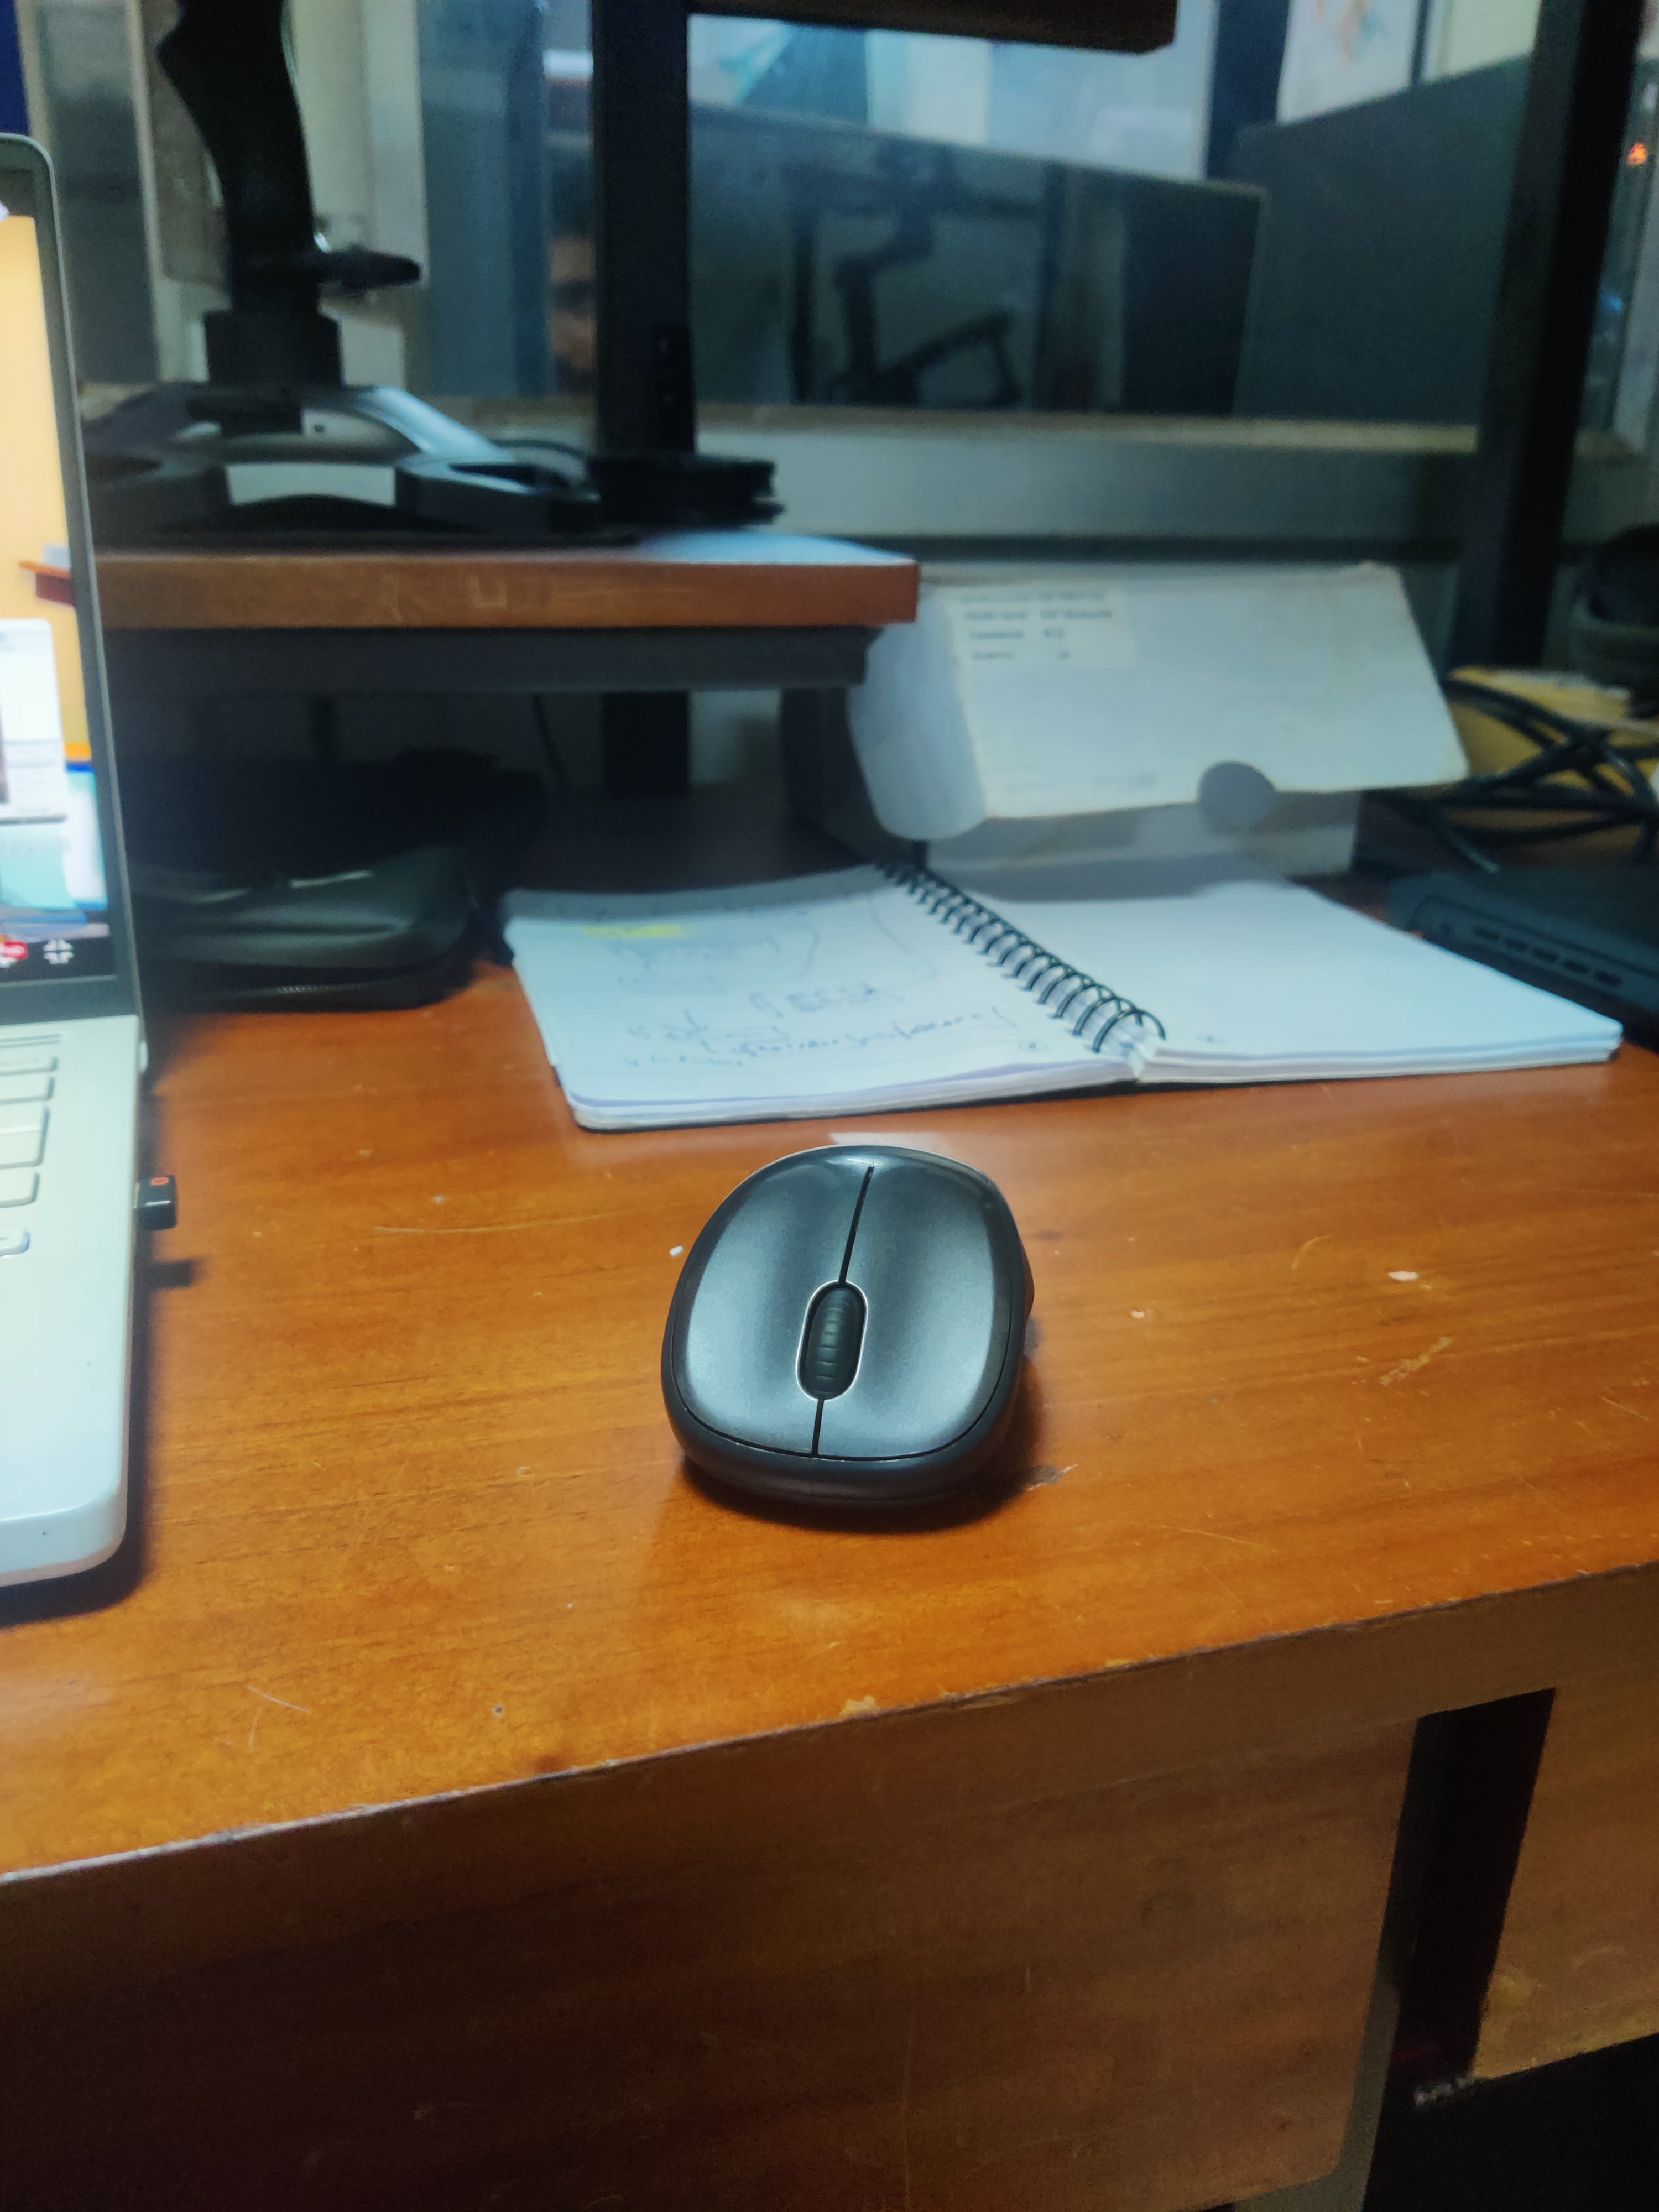logitechMouse: (653, 1141, 1040, 1538)
